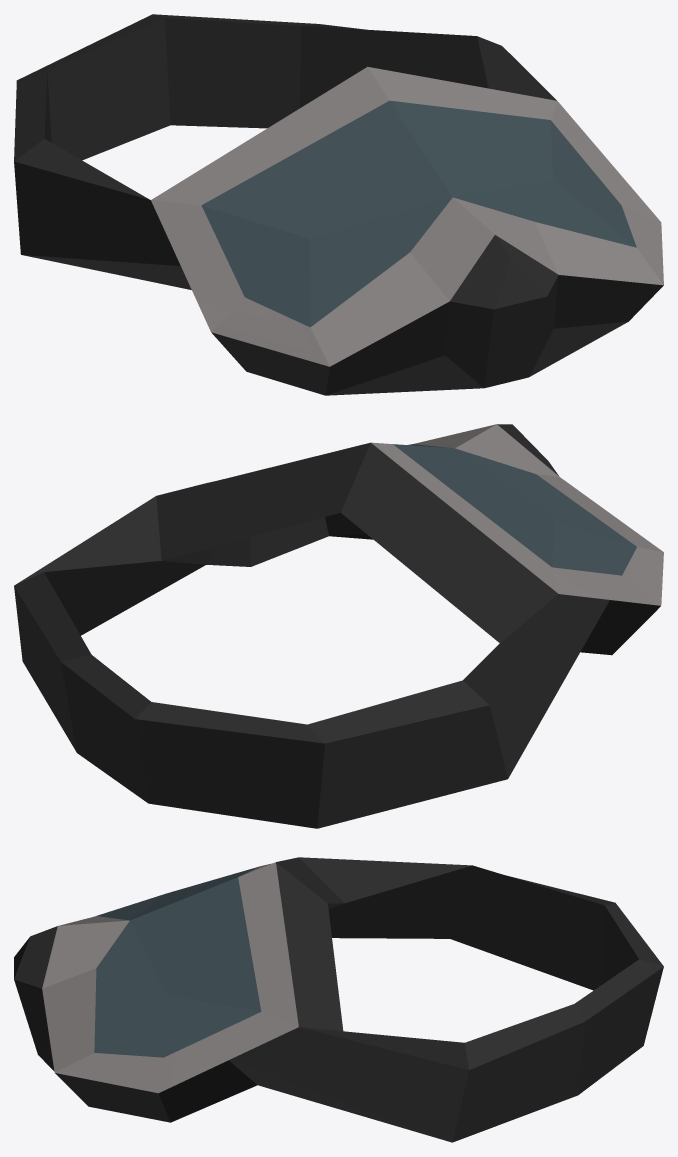
File: beach_scuba-mask.fbx
The picture shows the model from 3 angles, top to bottom: view 1: azimuth 30°, elevation 25°; view 2: azimuth 150°, elevation 25°; view 3: azimuth 270°, elevation 25°; orthographic projection. The views are drawn at different scales.
Visible parts, largest first — view 1: beach_scuba_mask; view 2: beach_scuba_mask; view 3: beach_scuba_mask.
Boxes of the visible parts, x1,y1,x2,y2 form: beach_scuba_mask: (14, 14, 663, 395); beach_scuba_mask: (14, 424, 663, 828); beach_scuba_mask: (14, 857, 663, 1142).
Size of the model in its own units: 149 by 62.58 by 200.
